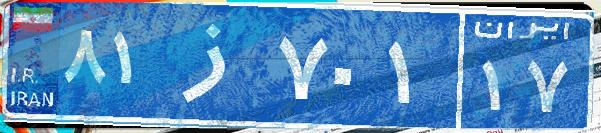0: (330, 28, 385, 110)
1: (385, 28, 445, 110), (475, 38, 525, 113), (110, 28, 158, 105)
7: (273, 28, 330, 110), (525, 38, 570, 115)
8: (57, 26, 110, 107)
ز: (158, 15, 273, 115)
